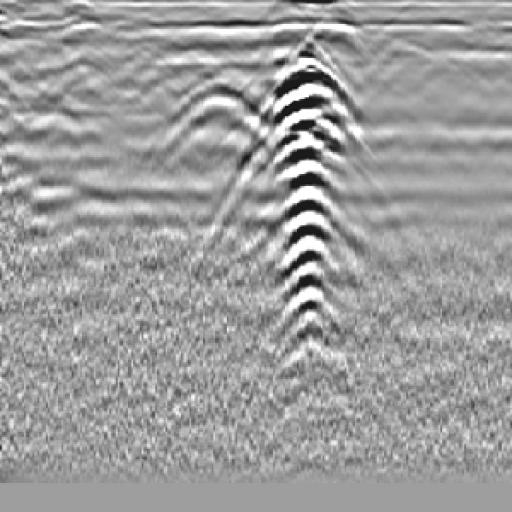metalic: (256, 32, 363, 349)
nonmetalic: (160, 76, 273, 198)
